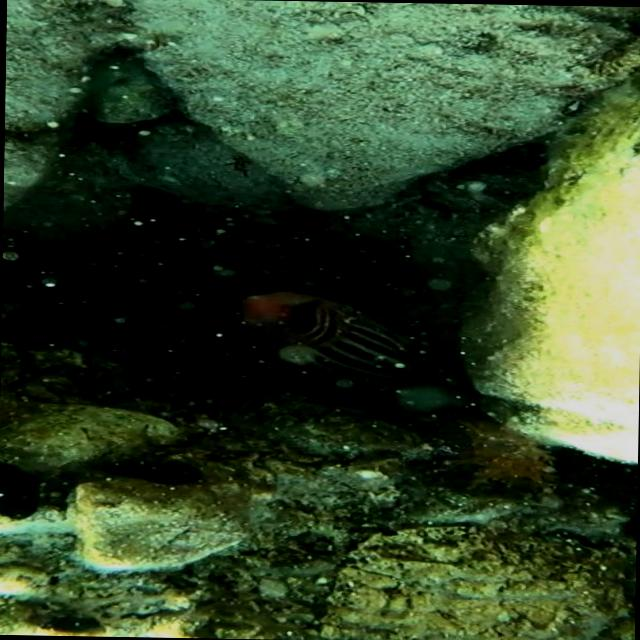Asker Baligi: (211, 266, 477, 413)
